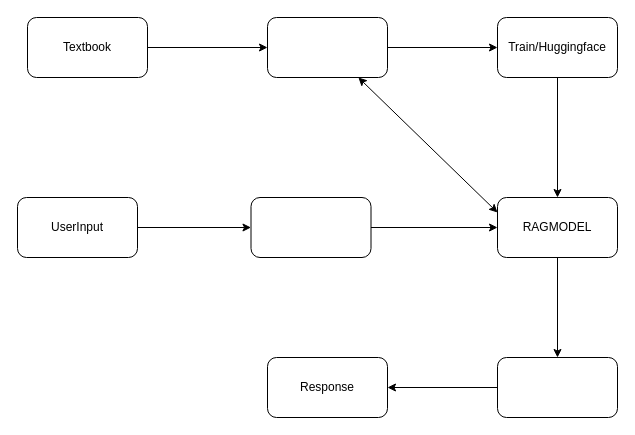
The diagram is 635 pixels wide and 435 high, and some of its shapes have lost their labels. Here are the shapes that lost their labels. From the top down, the centre of each, then its label:
pixel 327 47: Tokenization(FAISS)
pixel 310 227: Interface
pixel 557 387: Prompt
